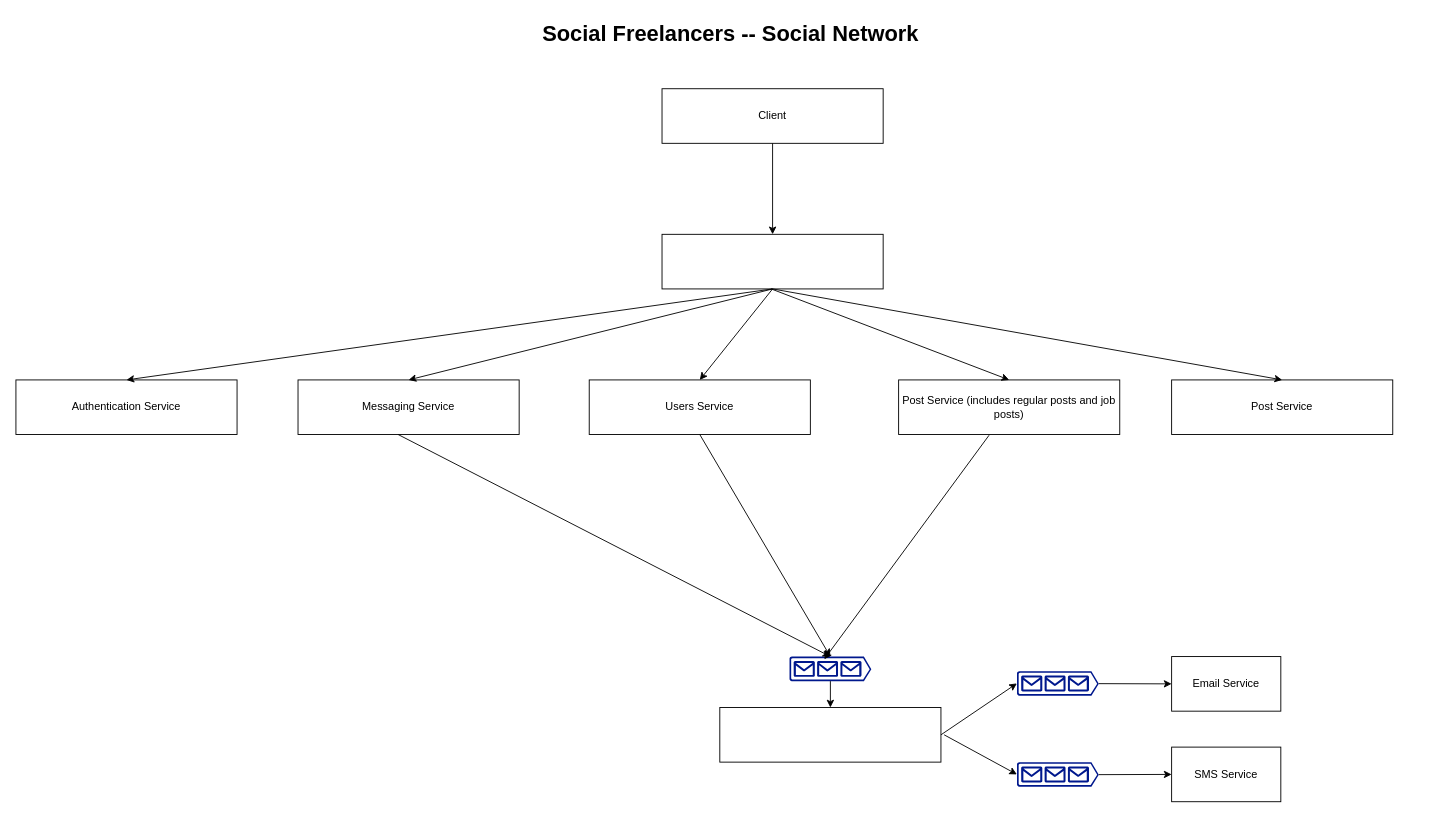
Some shapes in this 1433 by 817 pixel diagram are drawn without their labels. Each missing label, with the box of its shape:
API Gateway: (661, 233, 883, 289)
Notification Service: (719, 707, 941, 762)
